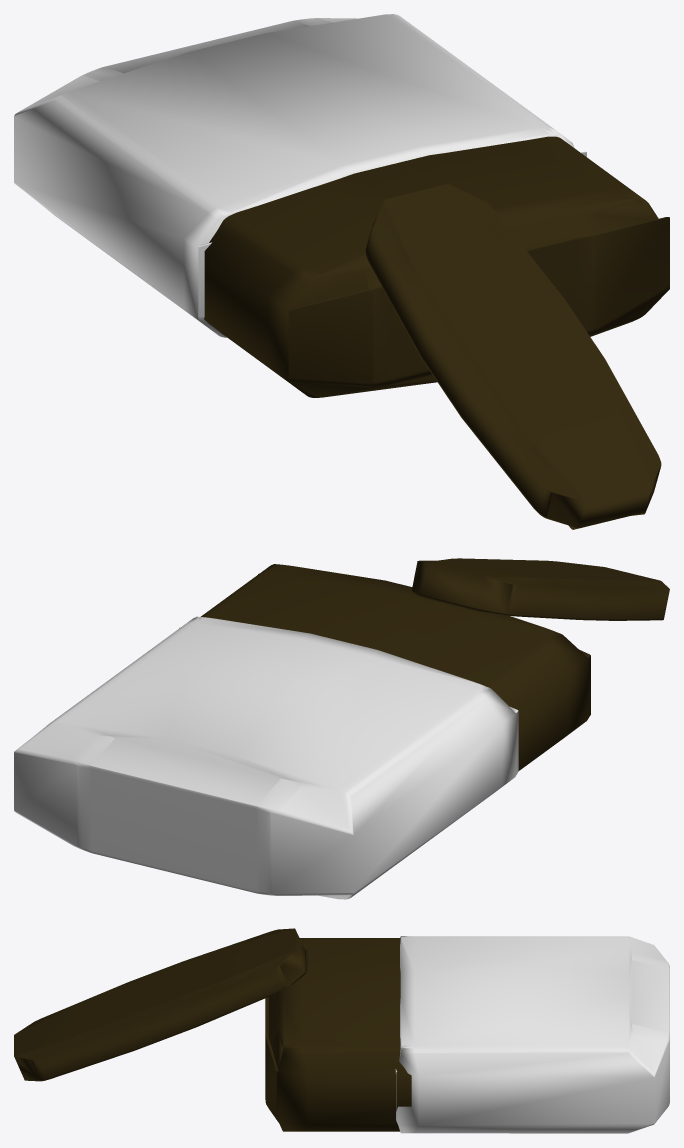
Rendered from drug_brick.fbx.
3 views of the same model, one above another, from view 1: azimuth 30°, elevation 25°; view 2: azimuth 150°, elevation 25°; view 3: azimuth 270°, elevation 25° (orthographic). The views are drawn at different scales.
Parts seen in each view (by area): view 1: Cube.003, Cube.001, Cube.002; view 2: Cube.003, Cube.001, Cube.002; view 3: Cube.003, Cube.001, Cube.002.
Part boxes in pixels (x1,y1,x2,y2): Cube.003: (14,14,586,337); Cube.001: (204,136,669,397); Cube.002: (365,184,661,529); Cube.003: (14,616,518,899); Cube.001: (201,564,590,770); Cube.002: (412,558,669,620); Cube.003: (395,936,669,1133); Cube.001: (265,938,411,1131); Cube.002: (14,928,307,1081).
Bounding box in the file's own units: 327 × 150 × 685.
